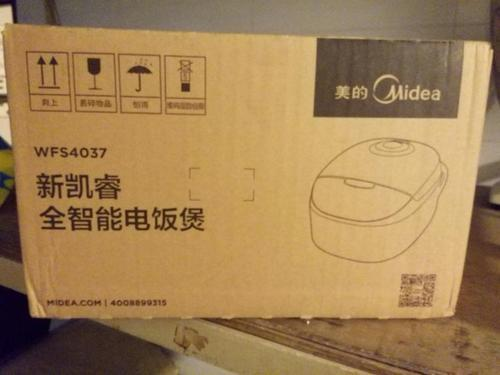cardboard: (5, 0, 491, 318)
